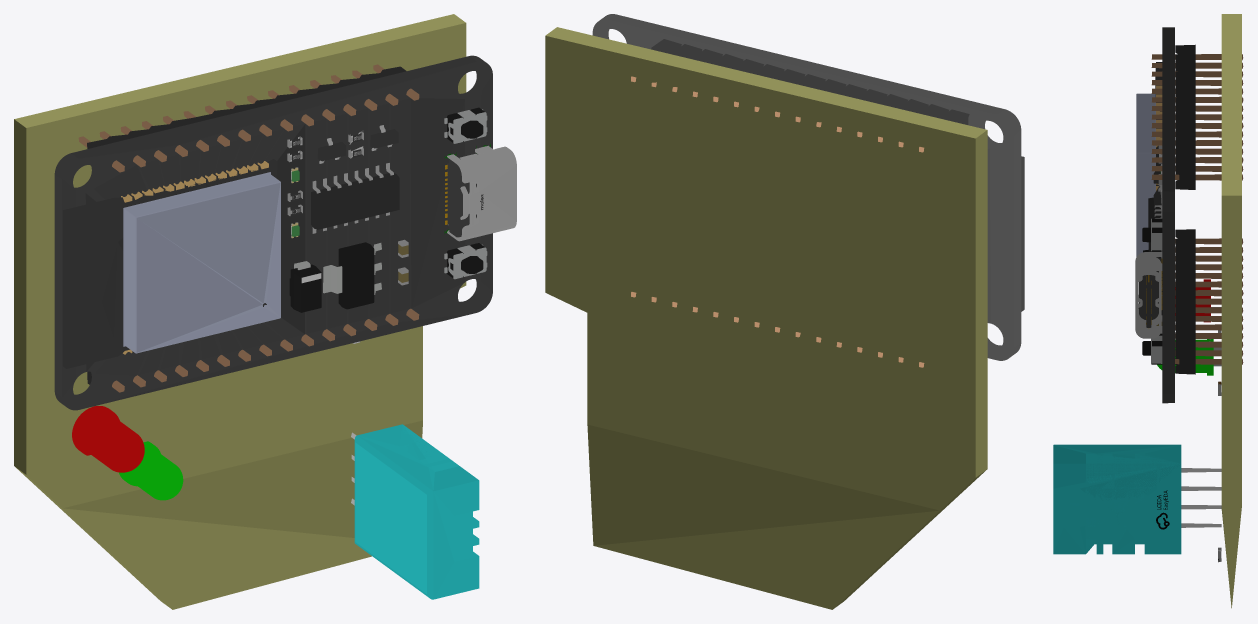
Rendered from OBJ_PCB_espDhtProj.obj.
3 renders of one model, left to right at view 1: azimuth 30°, elevation 25°; view 2: azimuth 150°, elevation 25°; view 3: azimuth 270°, elevation 25°, orthographic. The views are drawn at different scales.
Size of the model in its own units: 209 by 235 by 93.53.
